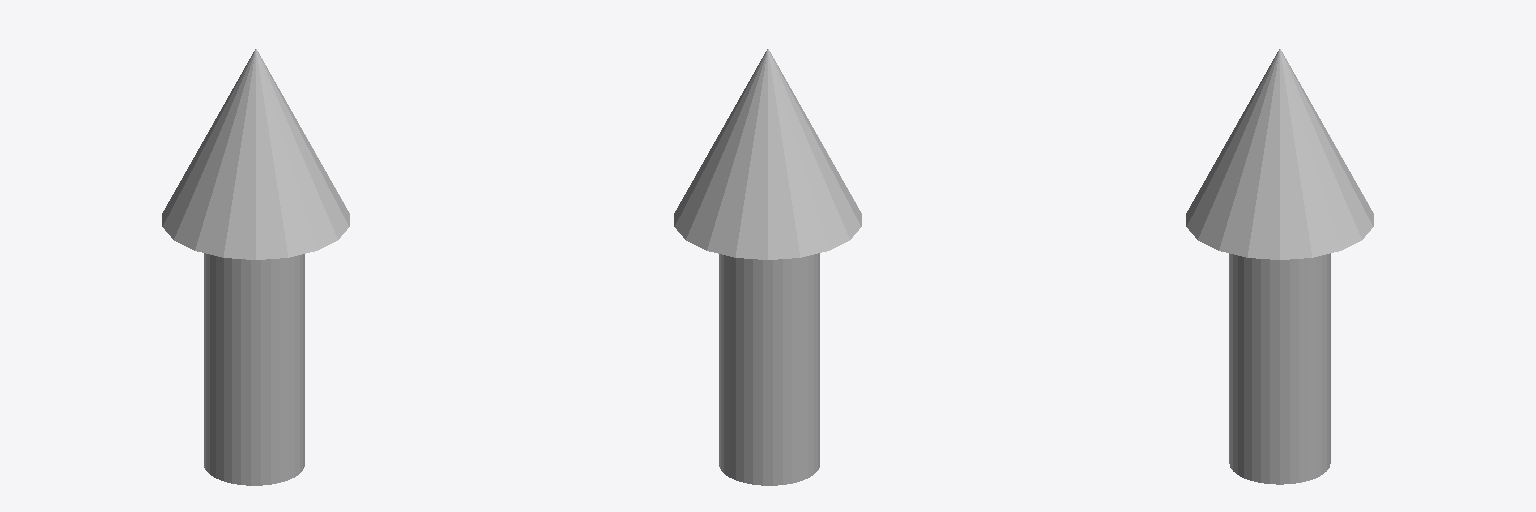
The model's file is arrow.obj.
The picture shows the model from 3 angles: view 1: azimuth 30°, elevation 25°; view 2: azimuth 150°, elevation 25°; view 3: azimuth 270°, elevation 25°; orthographic projection.
Visible parts, largest first — view 1: arrow; view 2: arrow; view 3: arrow.
Part boxes in pixels (x1,y1,x2,y2): arrow: (162, 49, 349, 485); arrow: (674, 49, 861, 485); arrow: (1186, 49, 1373, 484).
Bounding box in the file's own units: 3 × 7.25 × 2.95.